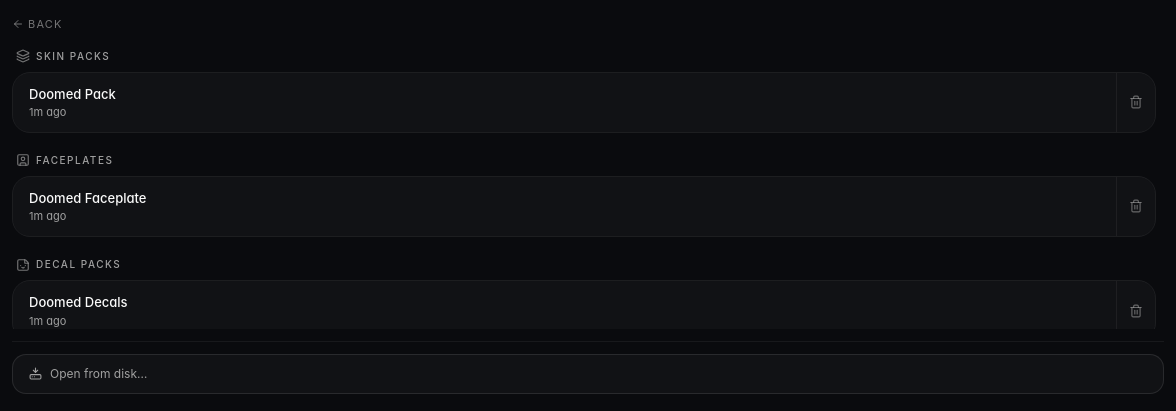
it: SavedProjectsList › delete affordance › confirming a skin delete removes the row, scrubs the recent list, and removes the per-id snapshot
Step 1. Click the button named "Delete Doomed Pack" → (1136, 102), box [1116,72,1155,132]
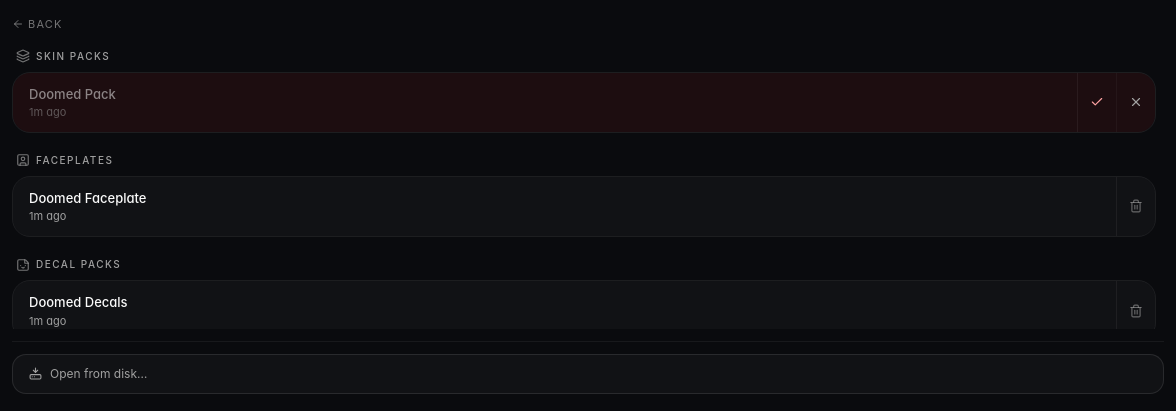
Step 2. Click the button with test id "confirm-delete" → (1097, 102), box [1078,72,1116,132]
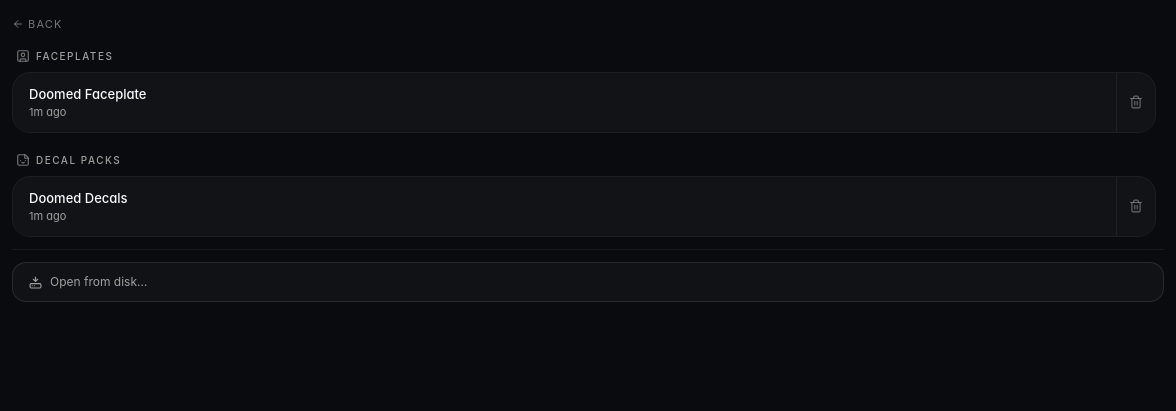
Now the text "Doomed Pack" is gone
Now the text "Skin packs" is gone
